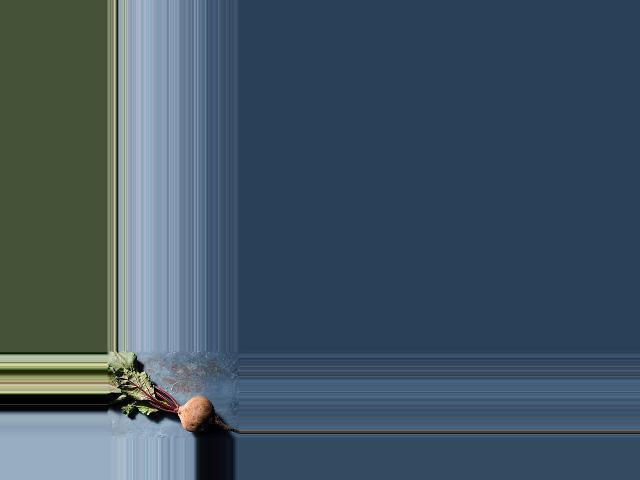beet: (106, 351, 238, 433)
